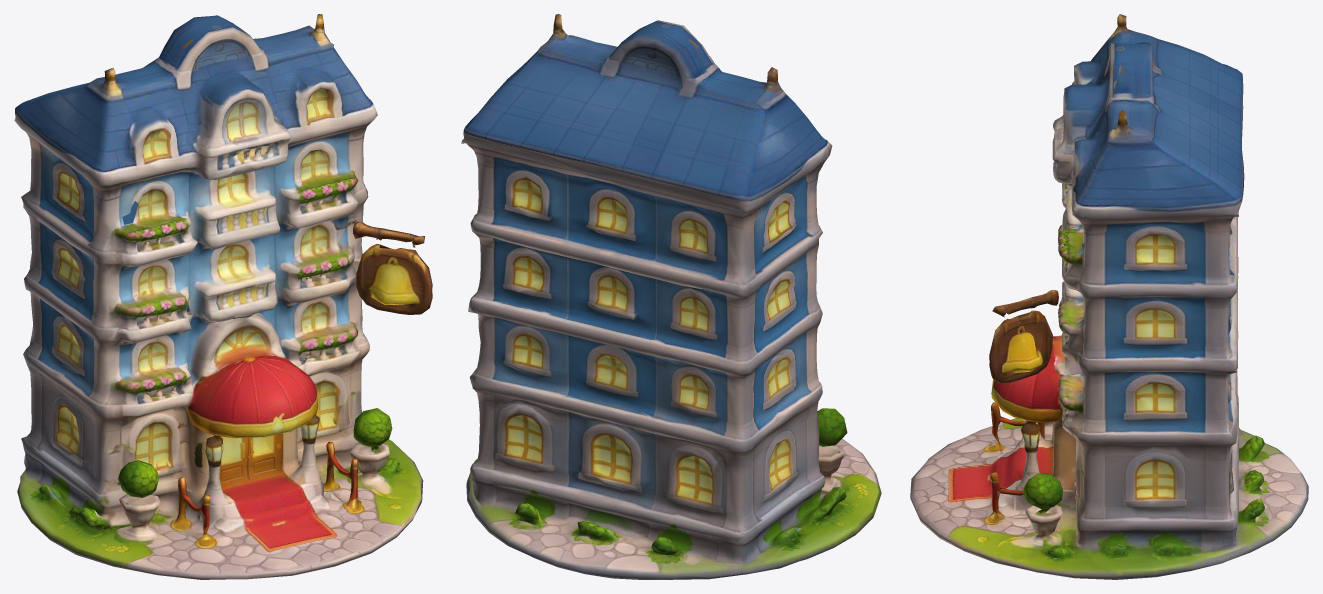
Rendered from 15-hotel.glb.
3 renders of one model, left to right at view 1: azimuth 30°, elevation 25°; view 2: azimuth 150°, elevation 25°; view 3: azimuth 270°, elevation 25°, orthographic. The views are drawn at different scales.
Parts seen in each view (by area): view 1: tripo_node_5dd8f09d-ff4c-4f62-ab20-9d93f234a2bb; view 2: tripo_node_5dd8f09d-ff4c-4f62-ab20-9d93f234a2bb; view 3: tripo_node_5dd8f09d-ff4c-4f62-ab20-9d93f234a2bb.
Boxes of the visible parts, <box> form: tripo_node_5dd8f09d-ff4c-4f62-ab20-9d93f234a2bb: <box>14,14,432,579</box>; tripo_node_5dd8f09d-ff4c-4f62-ab20-9d93f234a2bb: <box>461,14,881,579</box>; tripo_node_5dd8f09d-ff4c-4f62-ab20-9d93f234a2bb: <box>910,14,1308,579</box>.
Bounding box in the file's own units: 0.7659 × 0.9604 × 0.7704.
Materials: 1 (1 with a texture image).
